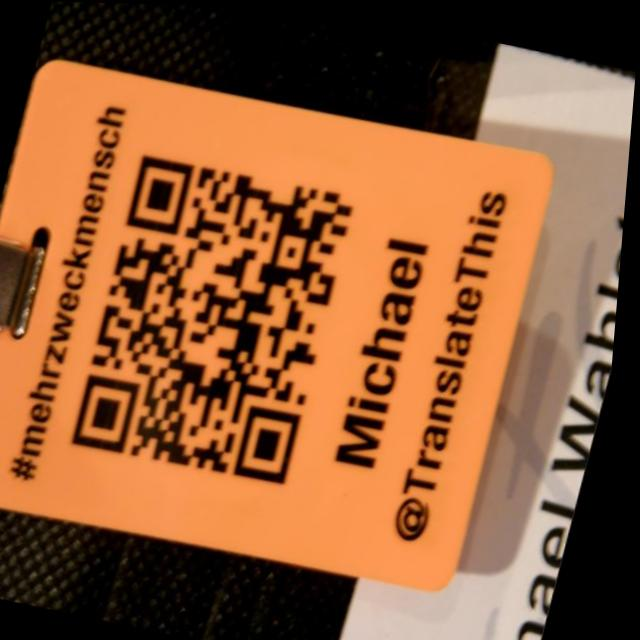qrcode: (76, 149, 364, 487)
